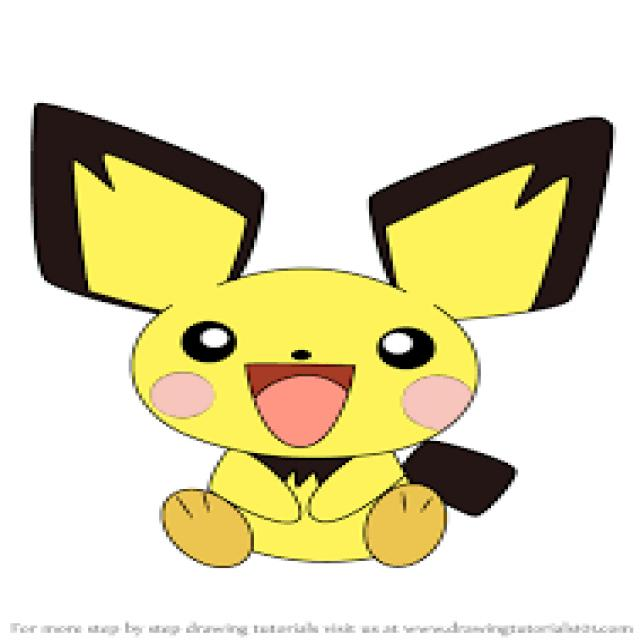pichu: (0, 91, 627, 574)
